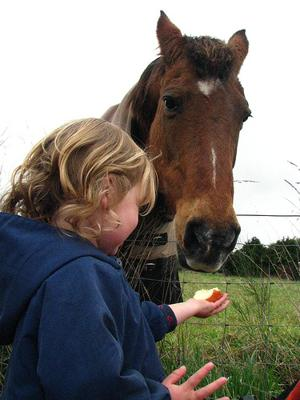person: (1, 119, 232, 400)
